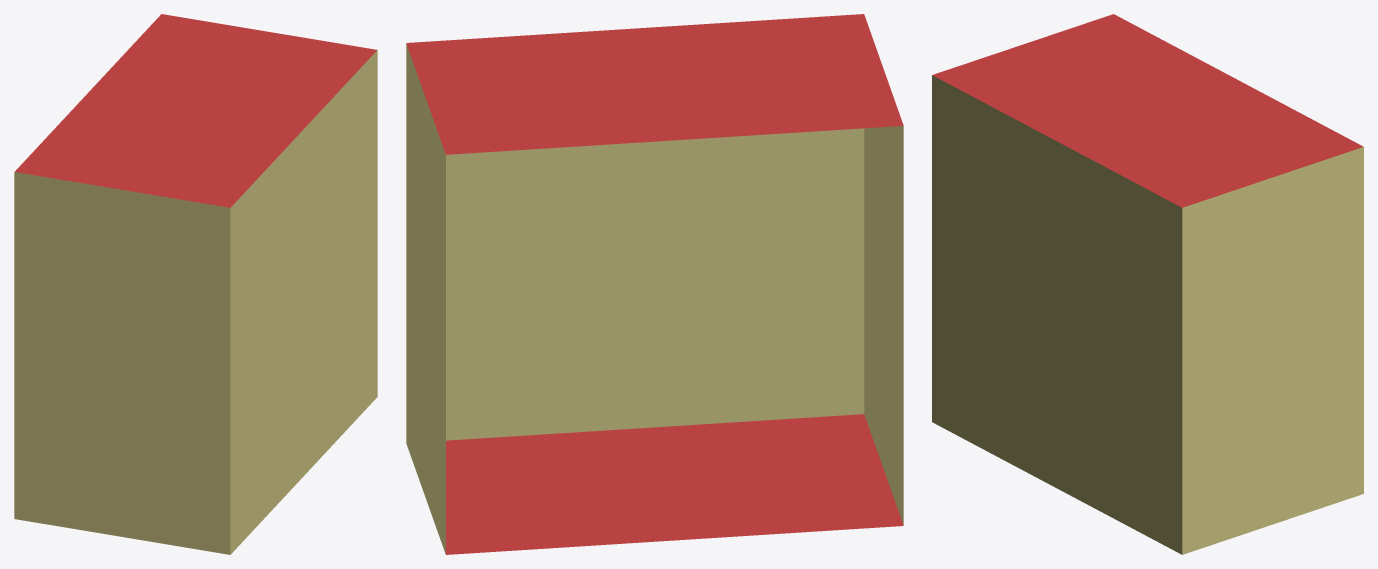
3 views of the same model, side by side, from view 1: azimuth 30°, elevation 25°; view 2: azimuth 150°, elevation 25°; view 3: azimuth 270°, elevation 25° (orthographic). The views are drawn at different scales.
Size of the model in its own units: 6.7 by 6.3 by 5.59.
